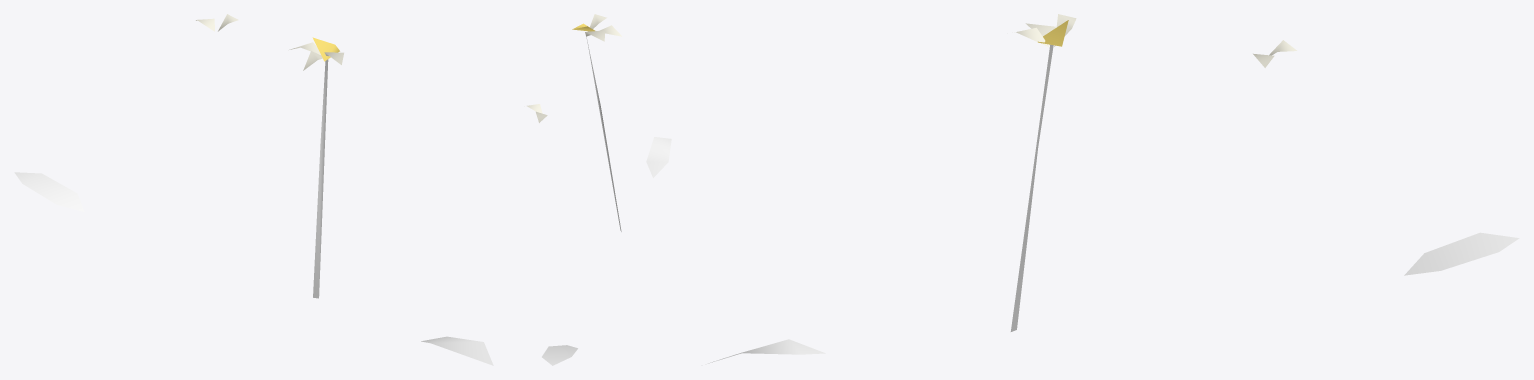
File: TinyDaisyClump_LOD3.glb
The picture shows the model from 3 angles, left to right: view 1: azimuth 30°, elevation 25°; view 2: azimuth 150°, elevation 25°; view 3: azimuth 270°, elevation 25°; orthographic projection. The views are drawn at different scales.
Visible parts, largest first — view 1: TinyDaisyClump_LOD3; view 2: TinyDaisyClump_LOD3; view 3: TinyDaisyClump_LOD3.
Boxes of the visible parts, box(x1,y1,x2,y2) form: TinyDaisyClump_LOD3: box(14, 14, 493, 365); TinyDaisyClump_LOD3: box(527, 14, 671, 365); TinyDaisyClump_LOD3: box(708, 14, 1519, 363).
Bounding box in the file's own units: 0.3343 × 0.4188 × 0.9635.
